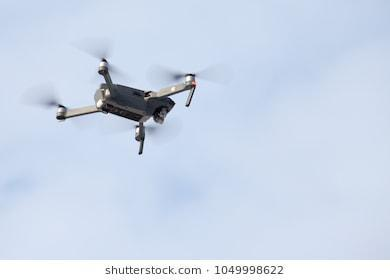drone: (3, 30, 258, 172)
